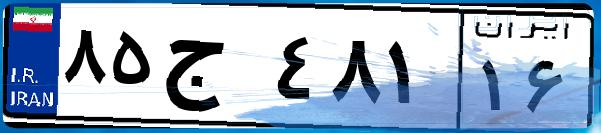1: (385, 28, 445, 110), (475, 38, 525, 113)
4: (270, 28, 330, 110)
5: (110, 28, 158, 98)
6: (525, 38, 570, 115)
8: (330, 28, 385, 110), (57, 26, 110, 100)
ج: (158, 20, 270, 120)
